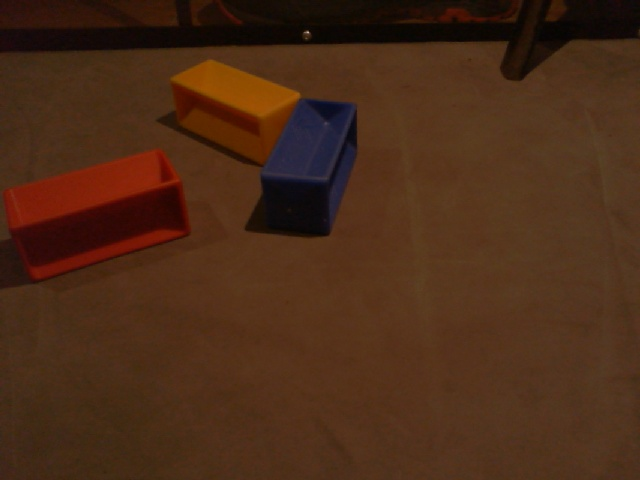BlueSample: (259, 95, 359, 237)
RedSample: (1, 147, 190, 286)
YellowSample: (167, 54, 300, 166)
